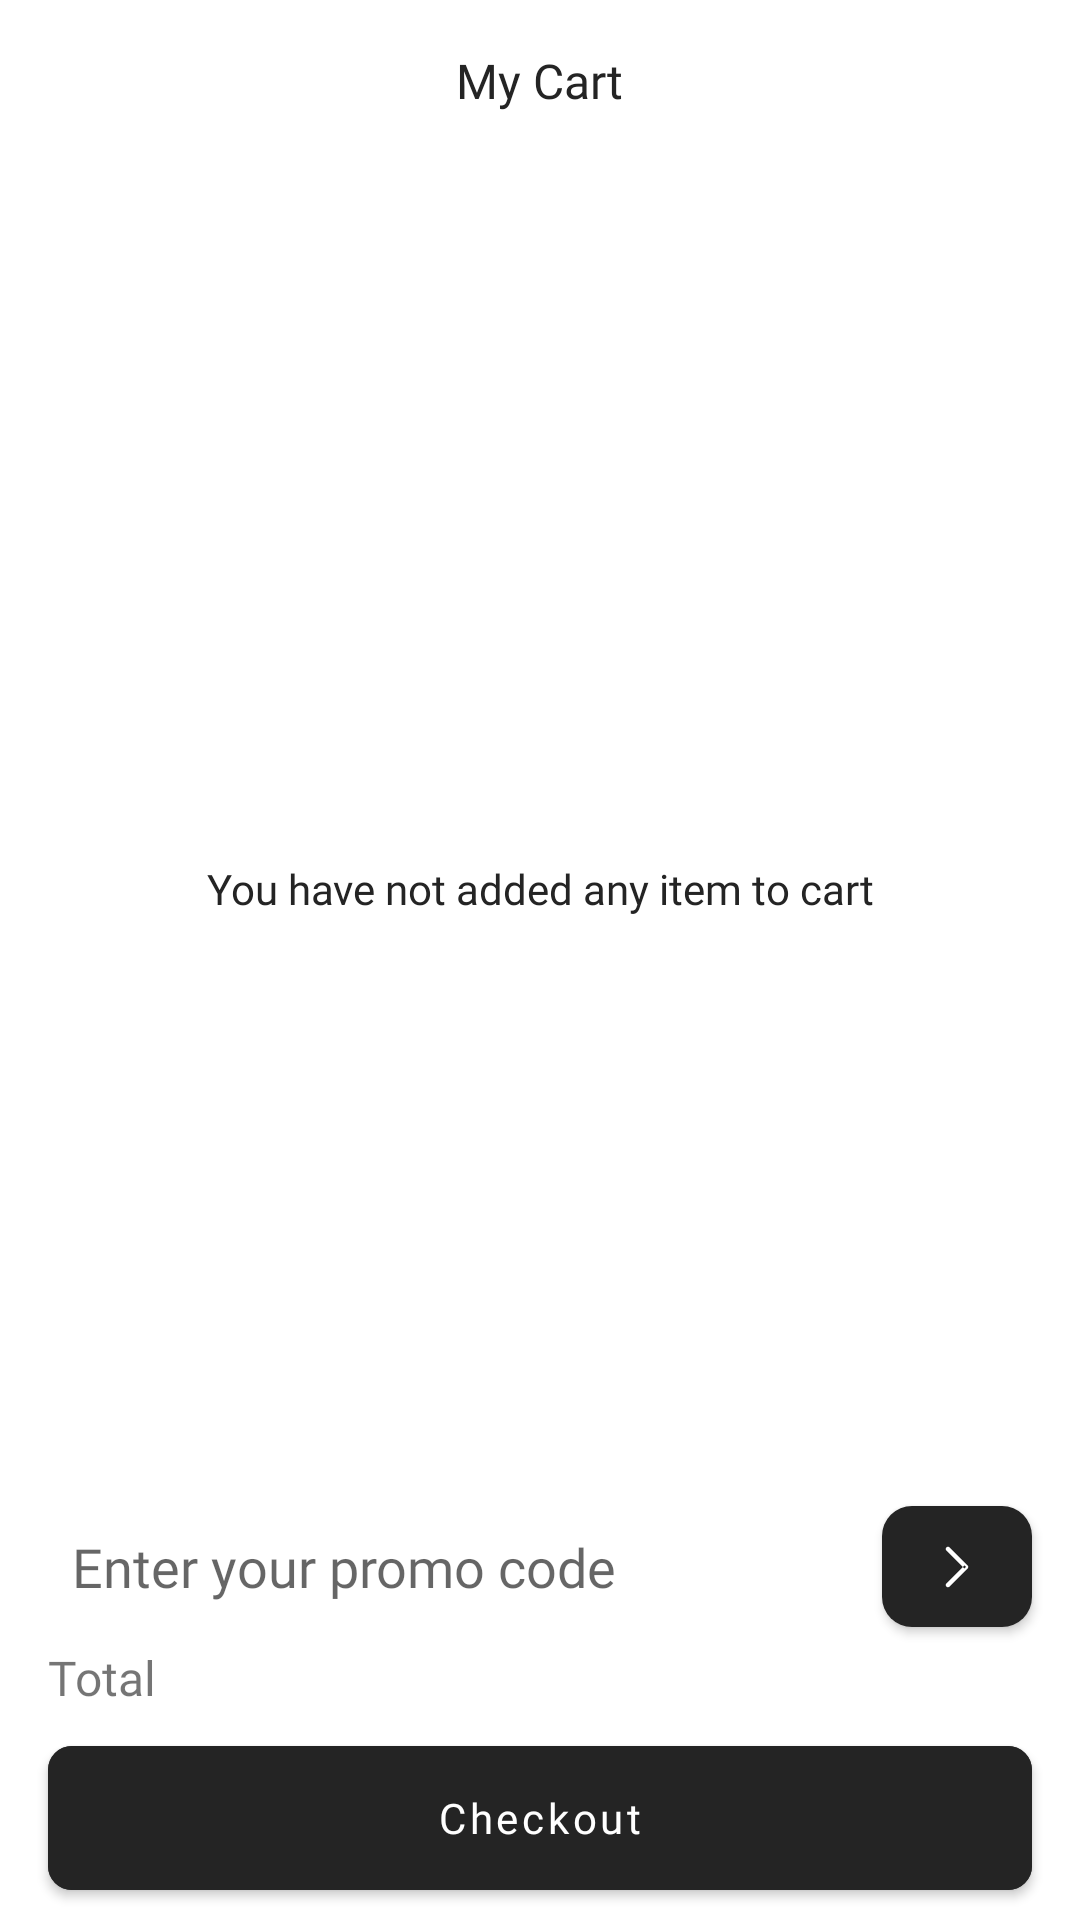

Screen size 1080x1920. Icon name, then its box in pixels as bbox=(x1, y1, x2, y2):
next: bbox=(882, 1506, 1032, 1627)
